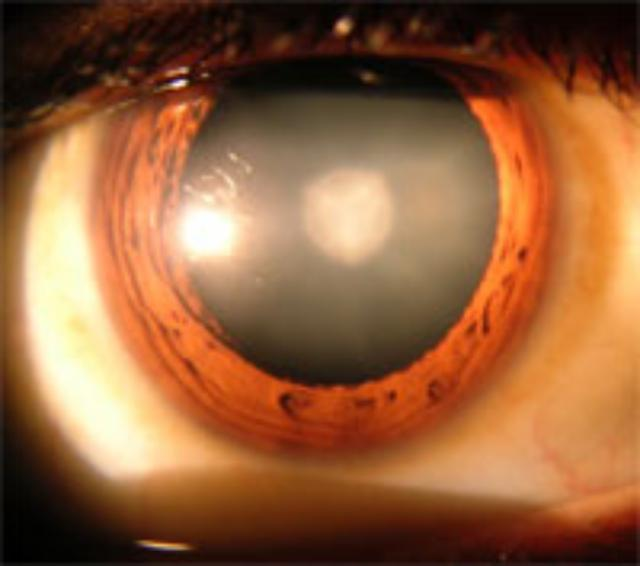eye: (138, 47, 560, 439)
